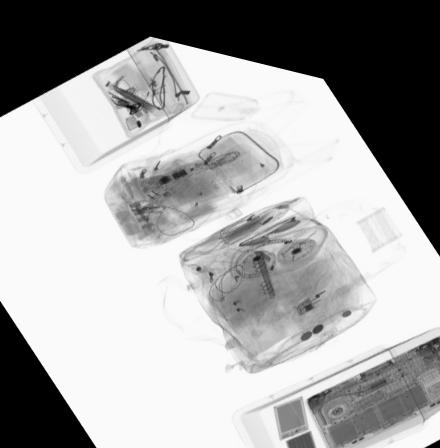Powerbank: (271, 380, 309, 429), (283, 412, 320, 448)
